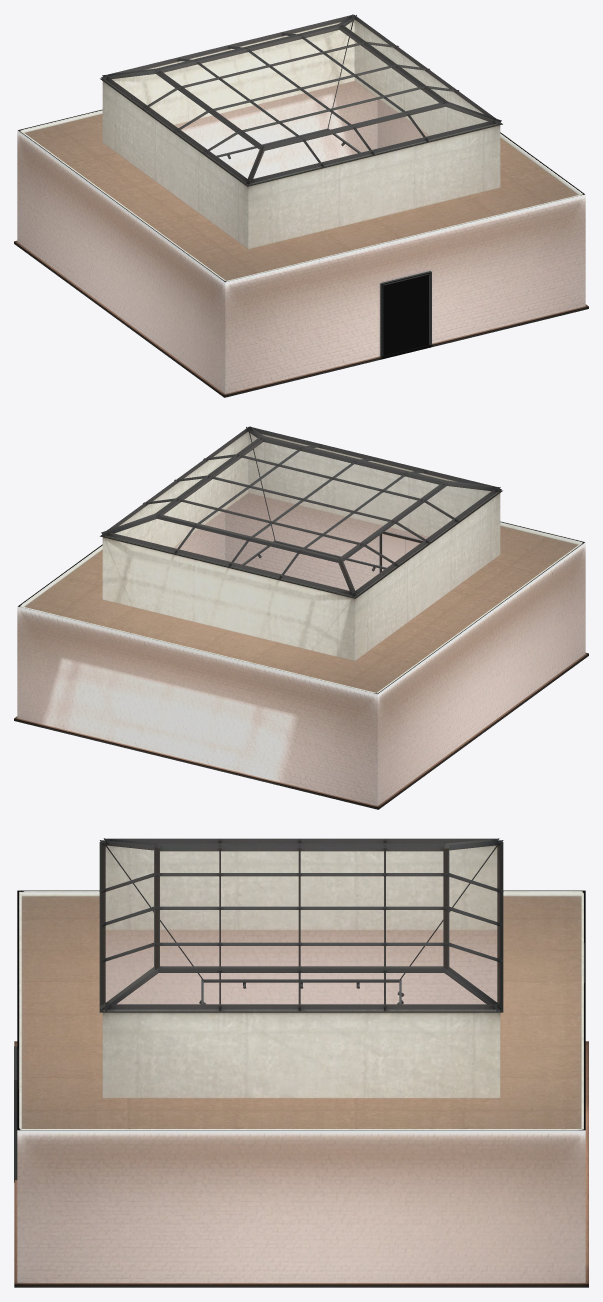
Rendered from VR-instructions-space-1.glb.
3 views of the same model, one above another, from view 1: azimuth 30°, elevation 25°; view 2: azimuth 150°, elevation 25°; view 3: azimuth 270°, elevation 25° (orthographic). The views are drawn at different scales.
Visible parts, largest first — view 1: VR_Gallery_VR_Gallery_0; view 2: VR_Gallery_VR_Gallery_0; view 3: VR_Gallery_VR_Gallery_0.
Boxes of the visible parts, bbox=[...] form: VR_Gallery_VR_Gallery_0: bbox=[14, 14, 588, 397]; VR_Gallery_VR_Gallery_0: bbox=[14, 426, 588, 809]; VR_Gallery_VR_Gallery_0: bbox=[14, 838, 588, 1287].
Size of the model in its own units: 10.12 by 5.05 by 10.12.
Materials: 1 (1 with a texture image).
